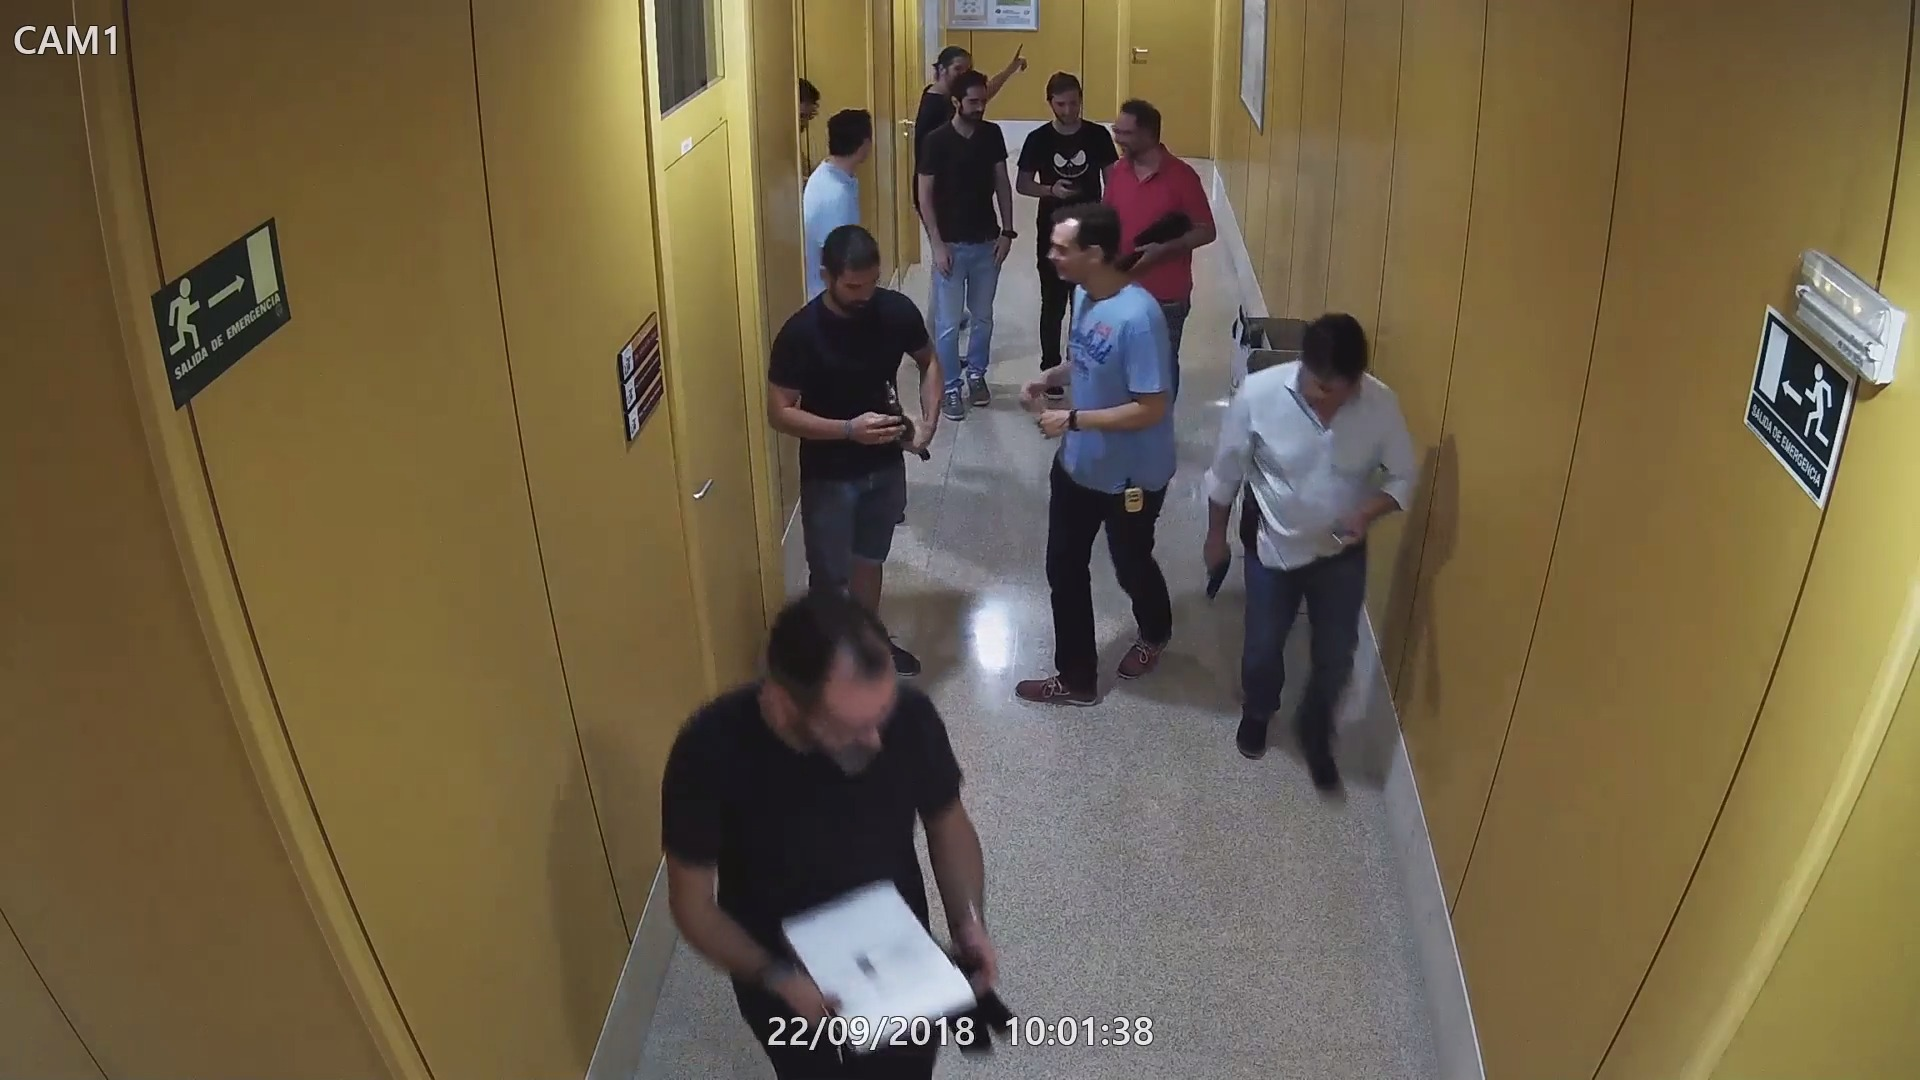Handgun: (1199, 530, 1236, 605)
Short_rifle: (1108, 208, 1199, 282), (866, 382, 934, 462)
